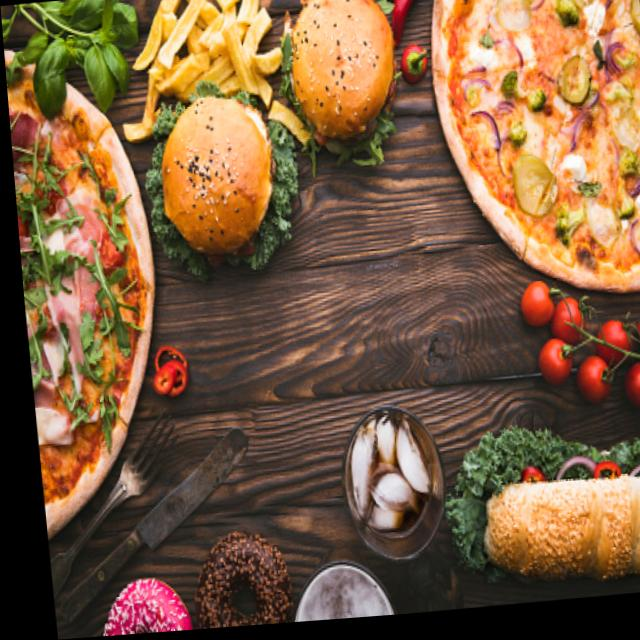burger: (149, 93, 279, 268), (273, 0, 403, 174)
pizza: (3, 34, 171, 540), (420, 0, 640, 315)
